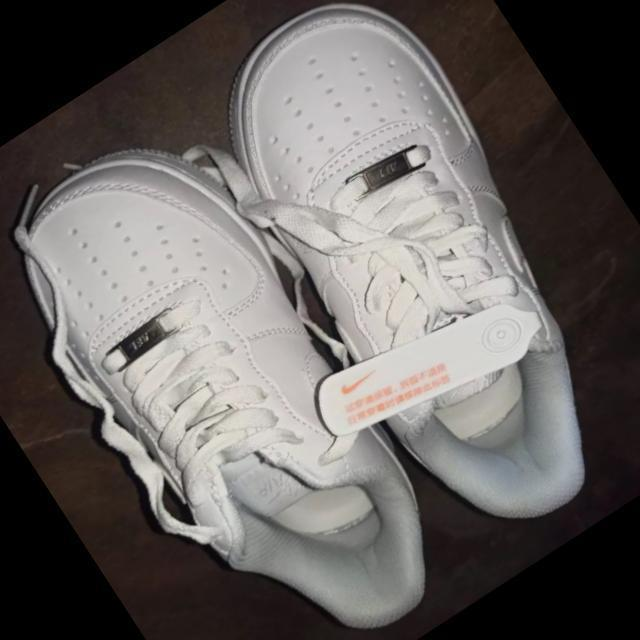nike fake air force: (168, 0, 640, 568), (0, 102, 484, 640)
